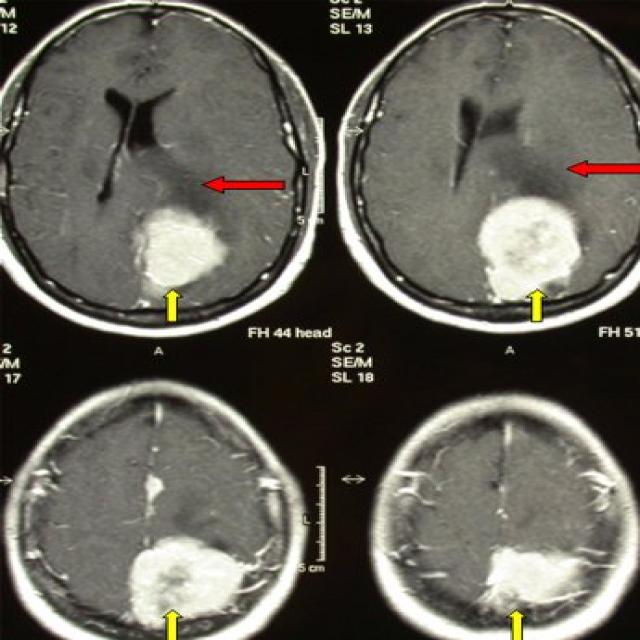Tumor: (482, 201, 575, 298), (132, 540, 241, 621), (140, 208, 221, 291), (484, 548, 584, 605)
